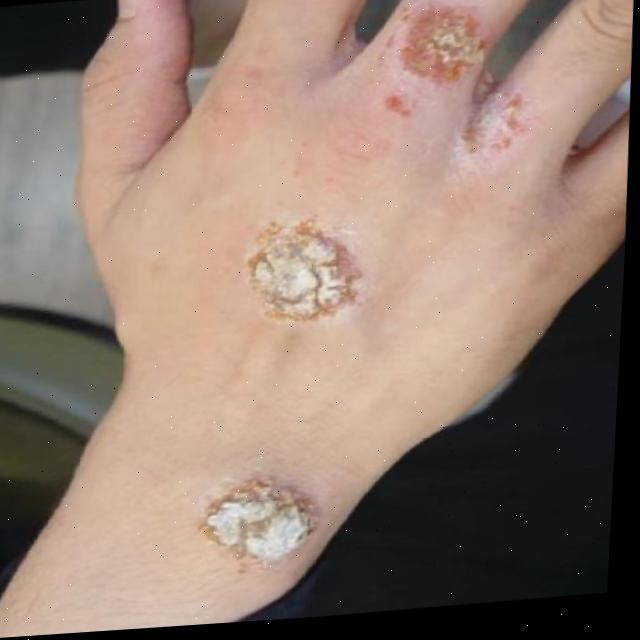Eczema: (257, 225, 340, 309), (393, 11, 465, 97), (210, 491, 293, 558), (471, 83, 521, 153)
